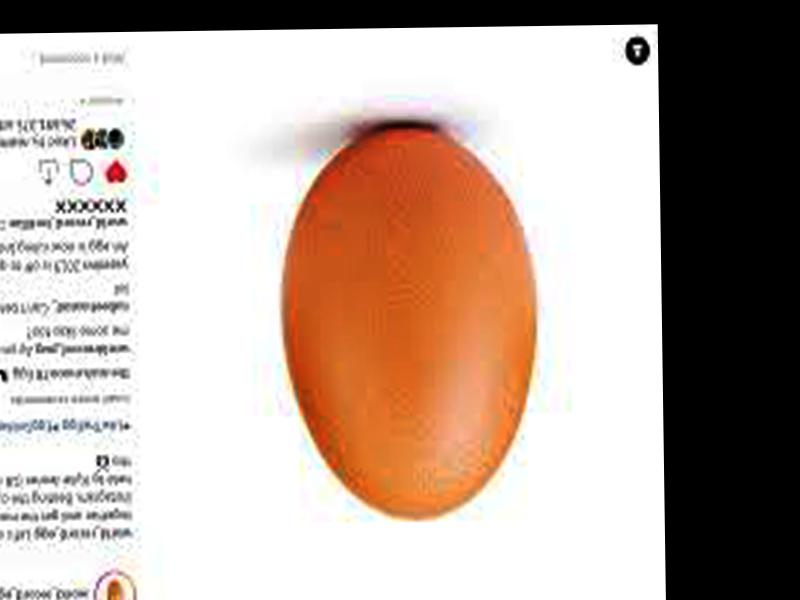Eggs: (280, 128, 538, 519)
